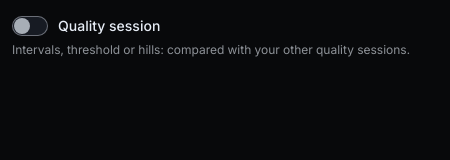
TrainingToggle › signale un échec sans changer l’état
This screenshot has width=450, height=160.
Click the switch labelled "Quality session".
click(86, 26)  # box [12,16,160,36]
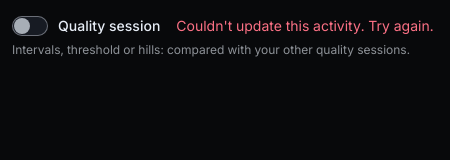
Now the message reads "Couldn't update this activity. Try again.", box [176,17,433,34]
